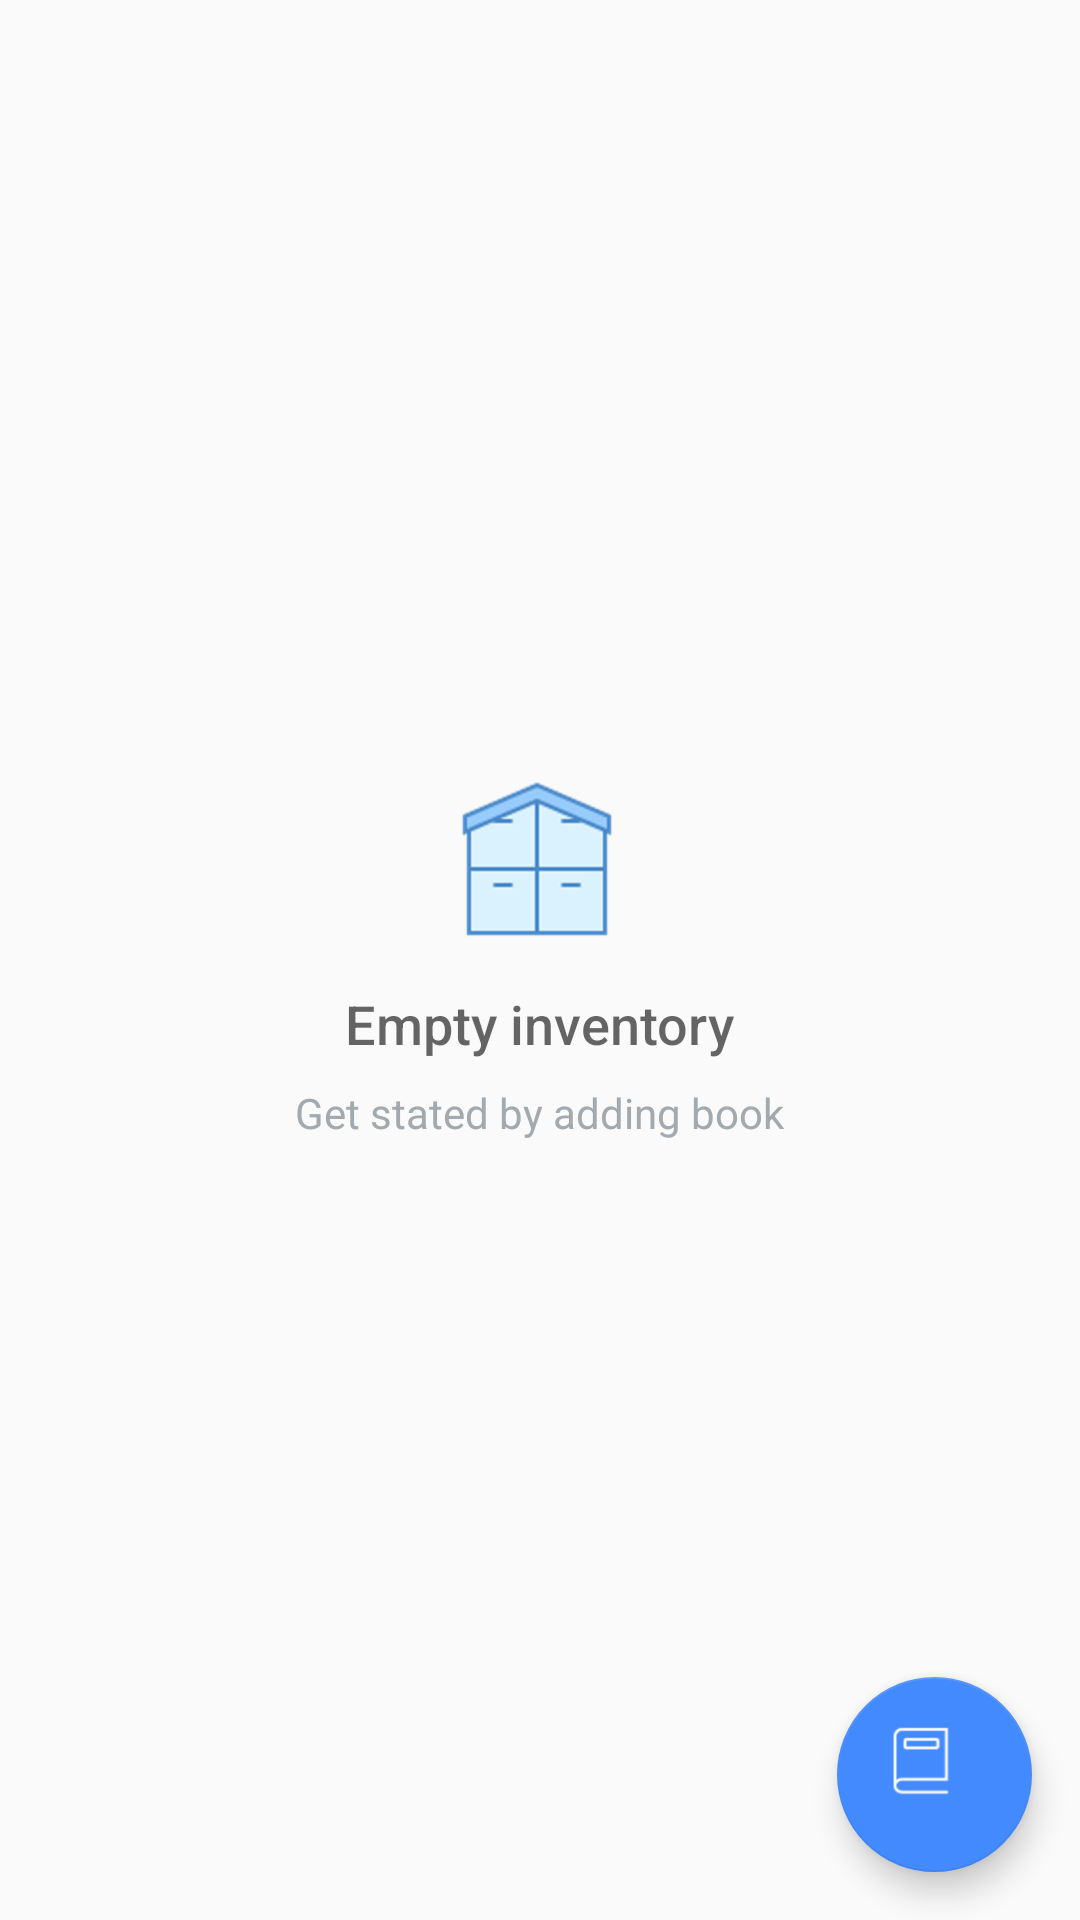

Icons on this 1080 × 1920 Android screen, each with its box as (x1, y1, x2, y2):
add book: (837, 1677, 1032, 1872)
